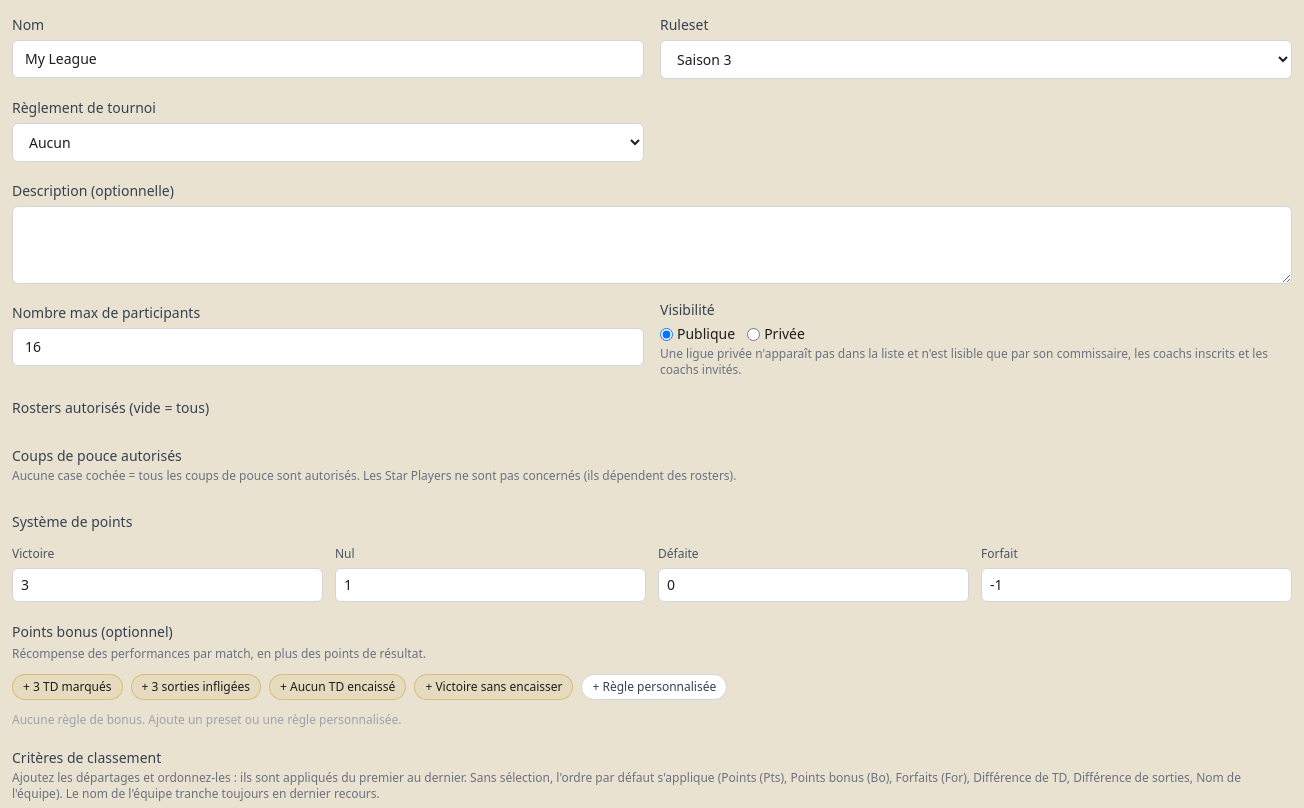
it: LeagueForm — editeur de points bonus (E1) › un preset booleen (clean sheet) n'affiche pas de champ seuil
Expected: the element with test id "league-form-bonus" is shown, x1=12 y1=622 x2=727 y2=728
Click the button with test id "bonus-preset-cleanSheet". click: point(338, 687)
box: x1=269 y1=674 x2=406 y2=700
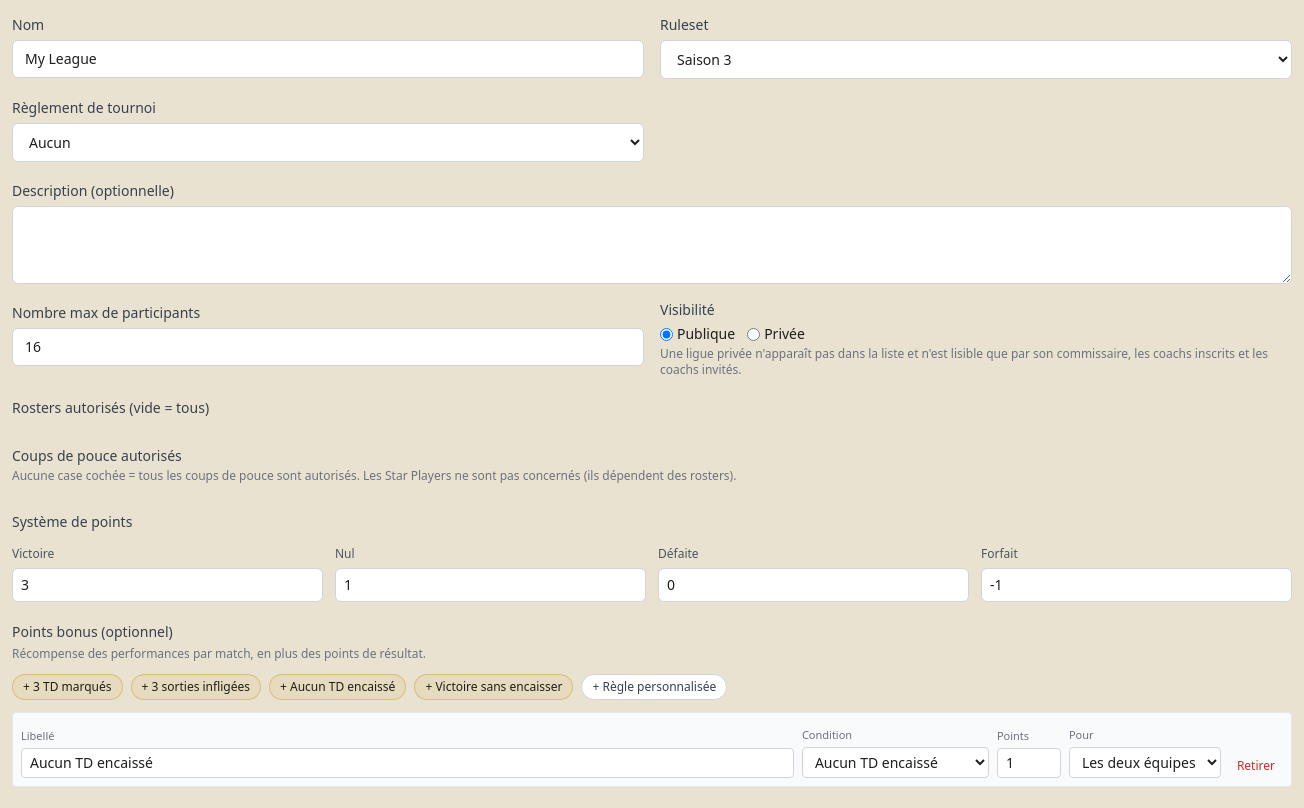
Now the dropdown with test id "bonus-rule-0-condition" shows "Aucun TD encaissé", box x1=802 y1=747 x2=989 y2=778
